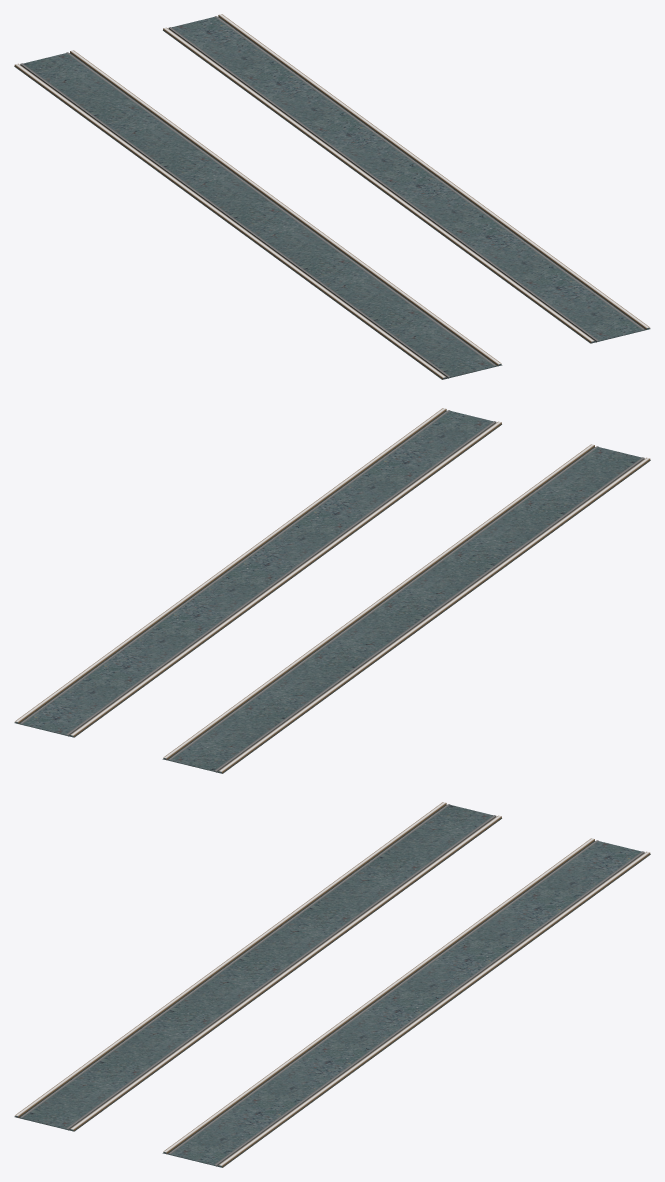
The model's file is 2RAILROMEN01.glb.
The picture shows the model from 3 angles, top to bottom: view 1: azimuth 30°, elevation 25°; view 2: azimuth 150°, elevation 25°; view 3: azimuth 330°, elevation 25°; orthographic projection.
Visible parts, largest first — view 1: obj5; view 2: obj5; view 3: obj5.
Part boxes in pixels (box(x1,y1,x2,y2)): obj5: box(14, 14, 650, 379); obj5: box(14, 408, 650, 773); obj5: box(14, 802, 650, 1167).
Bounding box in the file's own units: 14.07 × 0.1604 × 50.
2 materials, 2 textured.
